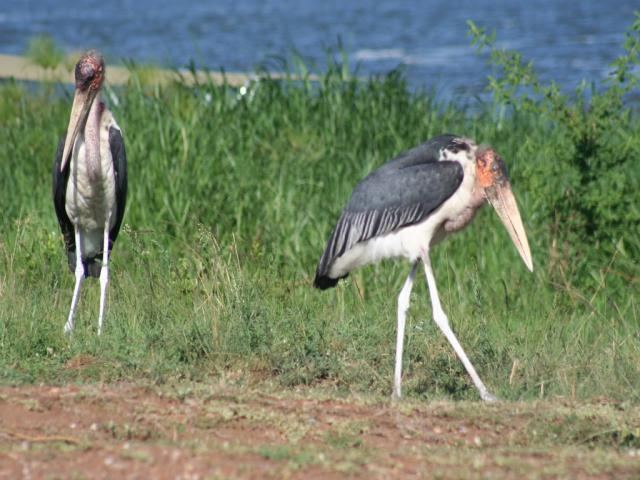Bird: (312, 131, 533, 403), (52, 51, 128, 340)
